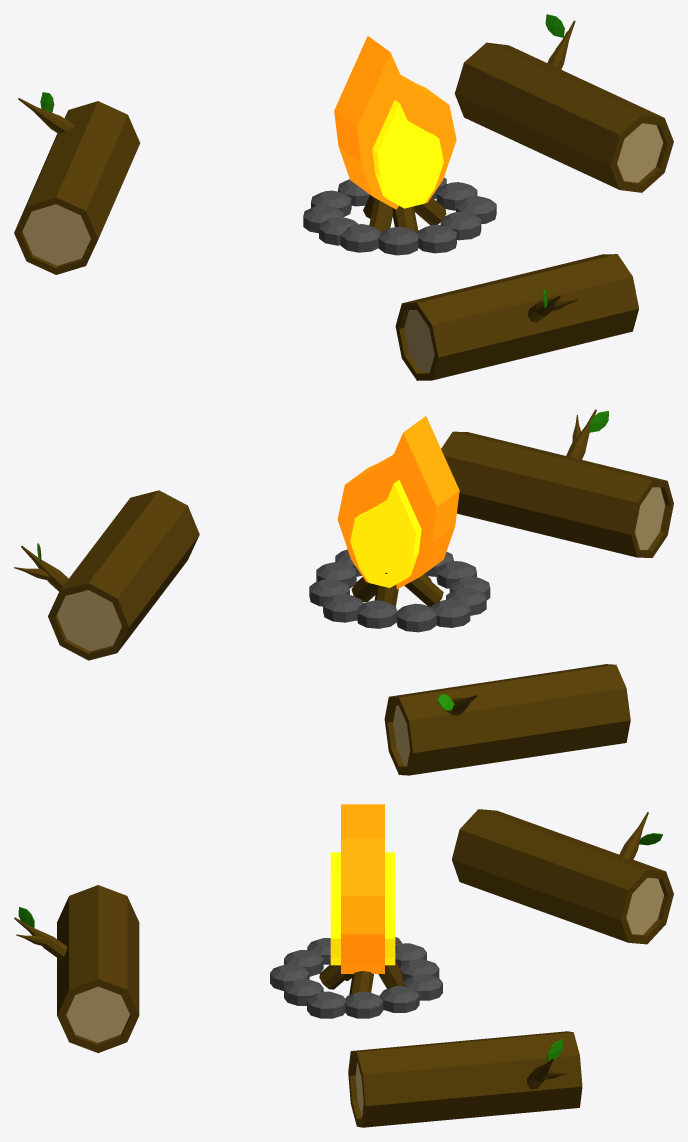
Rendered from camp fire.fbx.
3 views of the same model, one above another, from view 1: azimuth 30°, elevation 25°; view 2: azimuth 150°, elevation 25°; view 3: azimuth 270°, elevation 25° (orthographic). The views are drawn at different scales.
Visible parts, largest first — view 1: Cylinder.011, Cylinder.005, Cube, Cylinder.010, Cylinder.008, Cylinder.014, Cylinder.020; view 2: Cylinder.010, Cylinder.011, Cylinder.005, Cube, Cylinder.008, Cylinder.014; view 3: Cylinder.010, Cylinder.005, Cylinder.011, Cube, Cylinder.008, Cylinder.017.
Part boxes in pixels (box(x1,y1,x2,y2)): Cylinder.011: box(395, 254, 638, 380); Cylinder.005: box(454, 14, 673, 192); Cube: box(334, 36, 456, 209); Cylinder.010: box(14, 92, 140, 274); Cylinder.008: box(303, 177, 496, 255); Cylinder.014: box(369, 198, 392, 231); Cylinder.020: box(413, 197, 446, 225); Cylinder.010: box(384, 664, 630, 775); Cylinder.011: box(441, 409, 673, 557); Cylinder.005: box(14, 490, 199, 660); Cube: box(337, 416, 459, 589); Cylinder.008: box(309, 549, 490, 632); Cylinder.014: box(404, 574, 443, 606); Cylinder.010: box(452, 809, 673, 944); Cylinder.005: box(348, 1031, 582, 1127); Cylinder.011: box(14, 885, 139, 1052); Cube: box(330, 804, 395, 973); Cylinder.008: box(270, 937, 442, 1018); Cylinder.017: box(319, 964, 351, 989).
Bounding box in the file's own units: 917 × 315 × 932.
